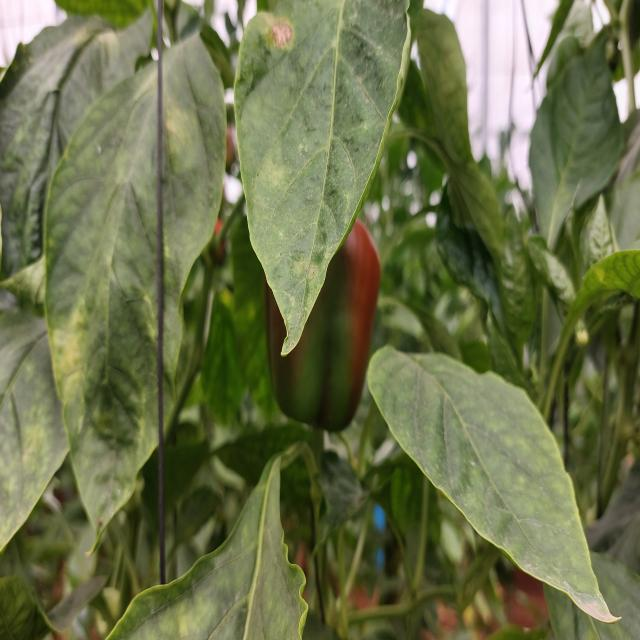BrownishRed--Can-be-Harvested: (270, 202, 379, 428)
